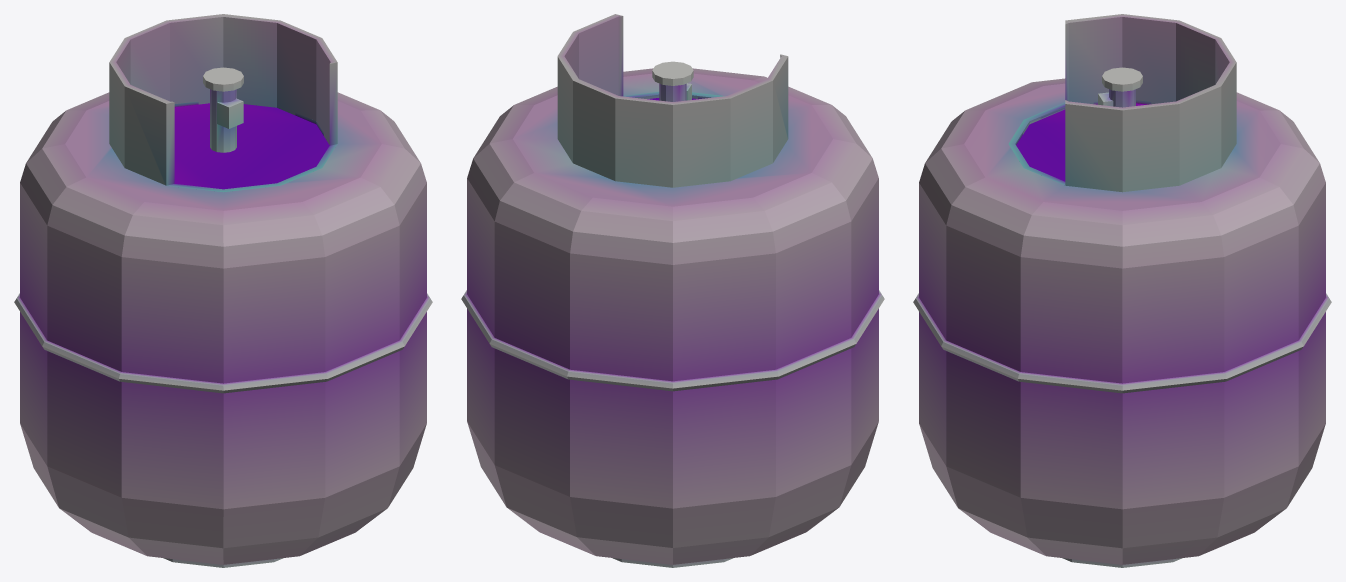
3 renders of one model, left to right at view 1: azimuth 30°, elevation 25°; view 2: azimuth 150°, elevation 25°; view 3: azimuth 270°, elevation 25°, orthographic.
Parts seen in each view (by area): view 1: body, collar, post; view 2: body, collar, post; view 3: body, collar, post.
Part boxes in pixels (left/top/right/bottom): body: left=14, top=92, right=432, bottom=567; collar: left=109, top=14, right=337, bottom=192; post: left=203, top=67, right=243, bottom=152; body: left=461, top=68, right=884, bottom=567; collar: left=557, top=14, right=788, bottom=187; post: left=652, top=61, right=693, bottom=101; body: left=913, top=78, right=1331, bottom=567; collar: left=1008, top=14, right=1236, bottom=192; post: left=1098, top=67, right=1142, bottom=107.
Size of the model in its own units: 0.4918 by 0.6 by 0.4918.
